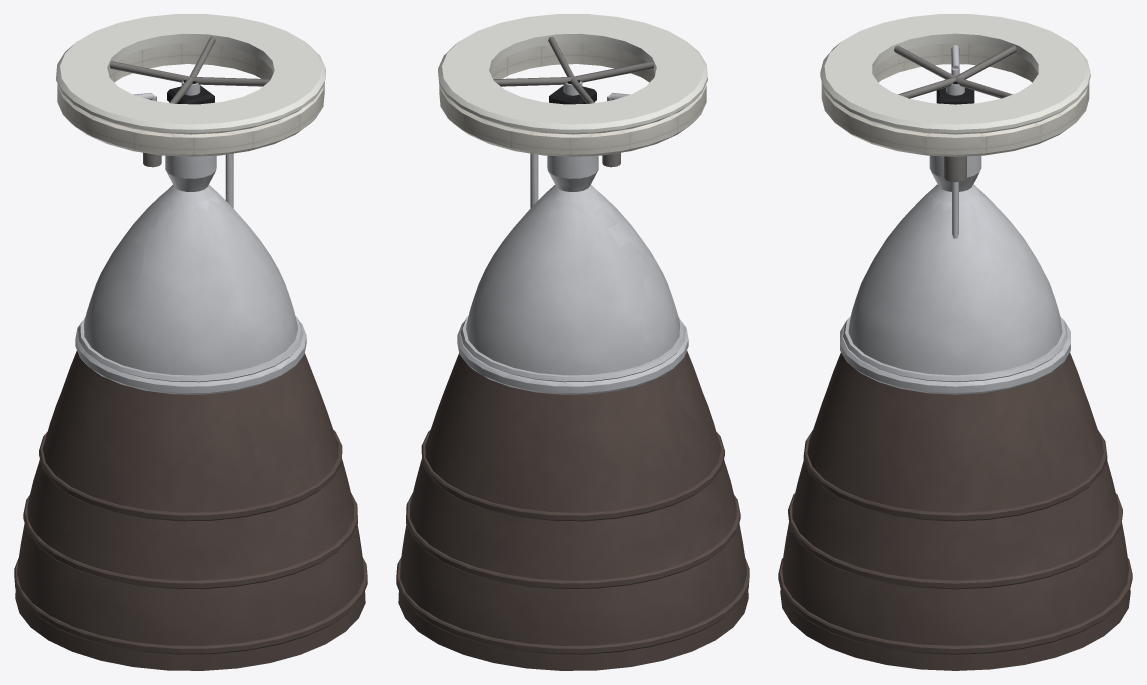
Rendered from ax_prop_10_hydrolox_vac_s_deployed.glb.
The picture shows the model from 3 angles, left to right: view 1: azimuth 30°, elevation 25°; view 2: azimuth 150°, elevation 25°; view 3: azimuth 270°, elevation 25°; orthographic projection.
Parts seen in each view (by area): view 1: nozzle_extension, regen_nozzle, mount_ring, extension_hoops, thermal_blanket_ring, joint_flange, regen_manifold, thrust_struts, chamber, plumbing, gimbal; view 2: nozzle_extension, regen_nozzle, mount_ring, extension_hoops, thermal_blanket_ring, joint_flange, regen_manifold, thrust_struts, chamber, plumbing, gimbal; view 3: nozzle_extension, regen_nozzle, mount_ring, extension_hoops, thermal_blanket_ring, joint_flange, regen_manifold, thrust_struts, chamber, plumbing, turbopumps.
Boxes of the visible parts, x1,y1,x2,y2 form: nozzle_extension: (15, 351, 365, 670); regen_nozzle: (84, 184, 297, 375); mount_ring: (56, 14, 325, 134); extension_hoops: (14, 430, 367, 654); thermal_blanket_ring: (57, 43, 324, 156); joint_flange: (75, 321, 306, 394); regen_manifold: (78, 316, 303, 382); thrust_struts: (110, 36, 270, 103); chamber: (165, 155, 216, 191); plumbing: (133, 93, 233, 208); gimbal: (167, 80, 214, 104); nozzle_extension: (398, 351, 748, 670); regen_nozzle: (466, 184, 679, 375); mount_ring: (438, 14, 707, 134); extension_hoops: (396, 430, 749, 654); thermal_blanket_ring: (439, 43, 706, 156); joint_flange: (457, 321, 688, 394); regen_manifold: (460, 316, 685, 382); thrust_struts: (493, 36, 653, 103); chamber: (547, 155, 598, 191); plumbing: (530, 93, 630, 208); gimbal: (549, 80, 596, 104); nozzle_extension: (780, 353, 1130, 670); regen_nozzle: (848, 184, 1062, 375); mount_ring: (820, 14, 1090, 134); extension_hoops: (778, 430, 1132, 654); thermal_blanket_ring: (821, 43, 1089, 156); joint_flange: (840, 318, 1070, 394); regen_manifold: (843, 316, 1067, 382); thrust_struts: (894, 45, 1016, 98); chamber: (929, 155, 981, 191); plumbing: (951, 45, 959, 238); turbopumps: (944, 156, 966, 182).
Bounding box in the file's own units: 1.64 × 2.69 × 1.64.
6 materials, 4 textured.
